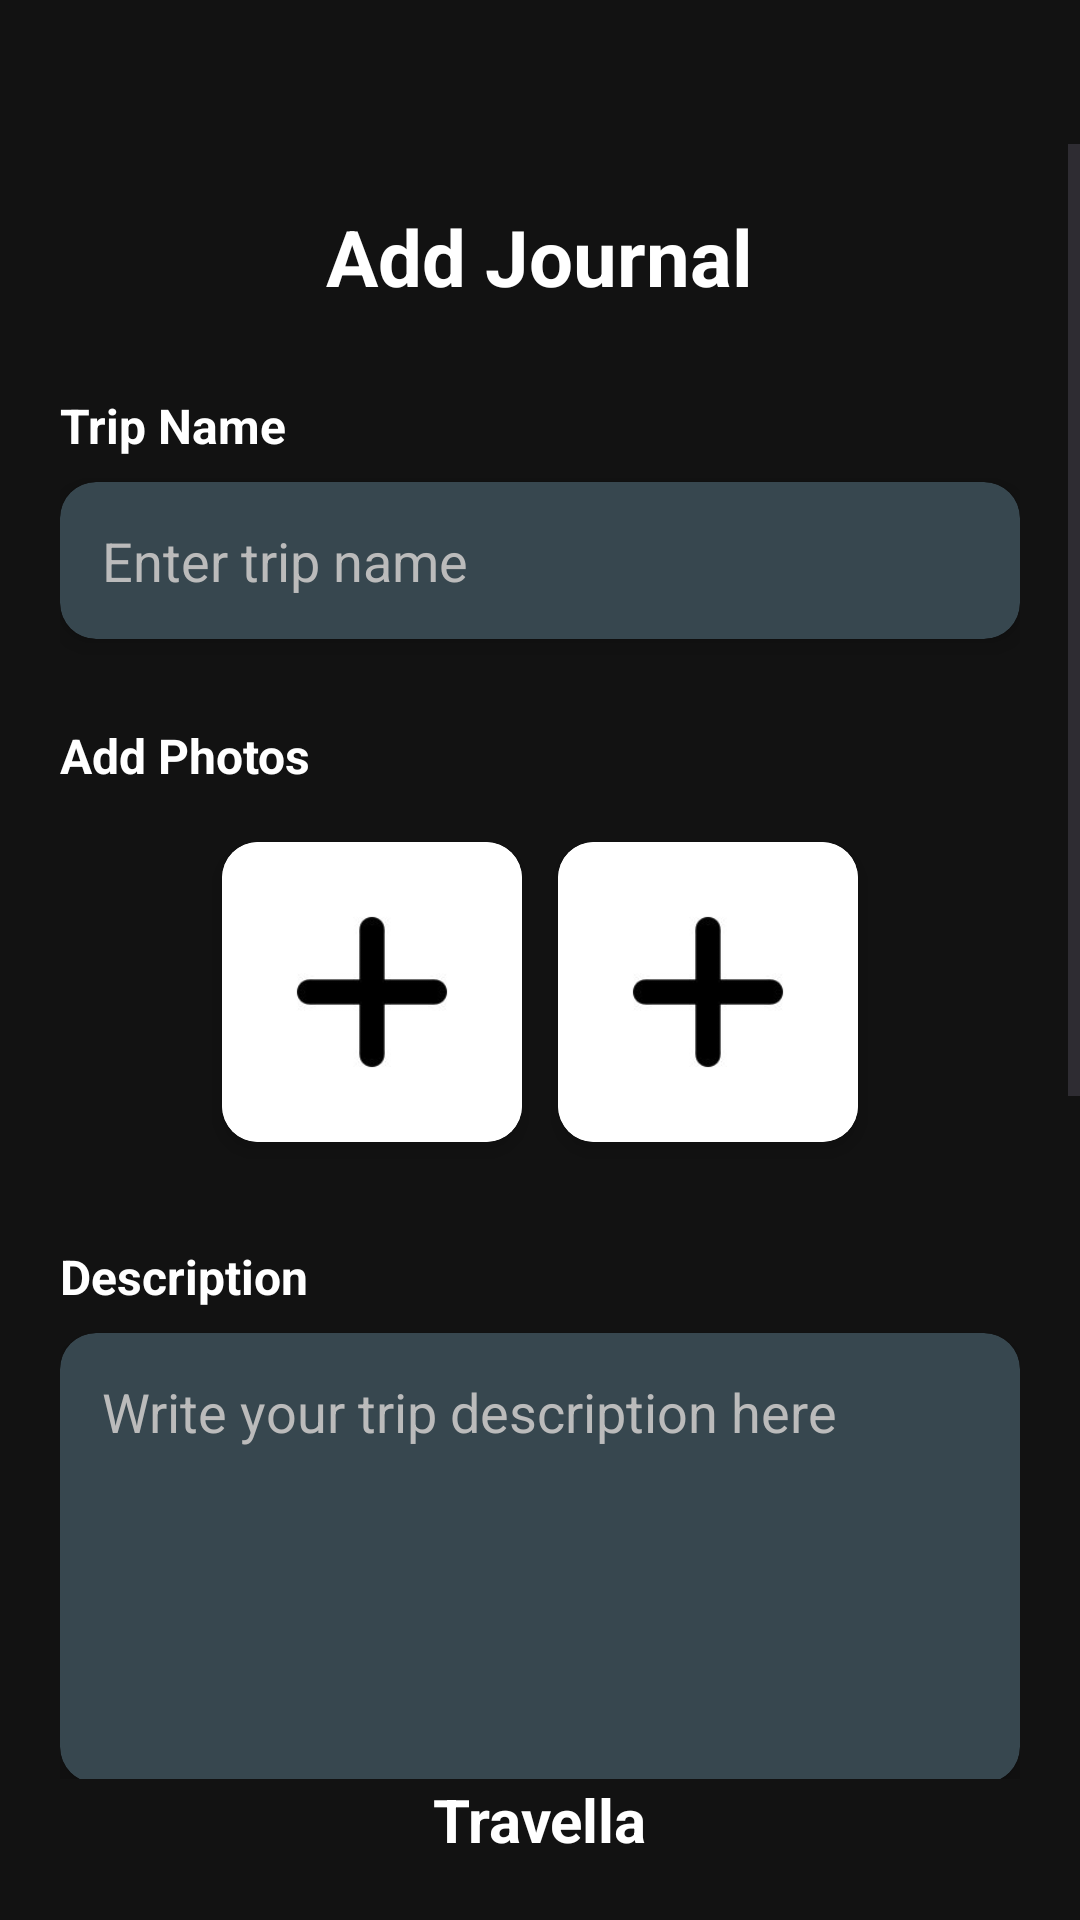

Named icons in this screenshot (1080w x 1920h) and their bounding boxes, (x1, y1, x2, y2):
plus: (222, 842, 522, 1142), (558, 842, 858, 1142)
